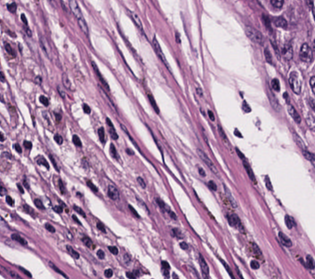nucleus: (152, 37, 169, 68), (91, 61, 109, 90), (197, 149, 217, 173), (245, 26, 263, 44), (243, 160, 256, 183), (289, 71, 300, 93), (218, 125, 229, 147), (49, 262, 66, 276), (220, 259, 233, 277), (106, 118, 117, 139), (227, 214, 242, 229), (288, 105, 300, 123), (148, 94, 159, 113), (300, 43, 311, 61), (199, 255, 208, 277), (40, 36, 49, 55), (66, 245, 79, 258), (279, 232, 291, 246), (250, 243, 261, 258), (282, 43, 292, 59), (294, 135, 305, 149), (303, 149, 313, 164), (62, 73, 71, 89), (110, 144, 119, 160), (82, 236, 94, 248), (108, 185, 118, 199), (49, 155, 58, 170), (37, 157, 49, 168), (73, 205, 85, 216), (264, 48, 272, 63), (129, 205, 139, 217), (161, 261, 169, 276), (284, 215, 293, 228), (264, 176, 272, 190), (87, 181, 97, 192), (98, 127, 105, 142), (34, 199, 44, 209), (72, 135, 81, 146), (156, 198, 165, 209), (96, 221, 105, 232), (171, 228, 182, 237), (58, 179, 65, 193), (271, 78, 279, 90), (57, 86, 65, 98), (306, 255, 313, 268), (39, 95, 48, 105), (242, 101, 250, 112), (236, 148, 244, 159), (45, 223, 54, 232), (137, 177, 145, 187), (54, 134, 62, 143), (208, 181, 216, 190), (72, 215, 80, 224), (108, 246, 117, 254), (250, 260, 259, 268), (207, 110, 214, 120), (168, 209, 175, 219), (310, 76, 314, 92), (234, 129, 242, 137), (104, 269, 112, 277), (83, 104, 90, 113), (198, 167, 205, 176), (97, 249, 104, 258), (175, 32, 180, 42), (180, 242, 187, 249), (54, 206, 62, 212), (126, 272, 135, 277), (35, 76, 41, 83), (196, 88, 202, 95), (124, 254, 129, 262), (133, 270, 139, 276), (126, 149, 132, 154), (173, 274, 177, 277)
